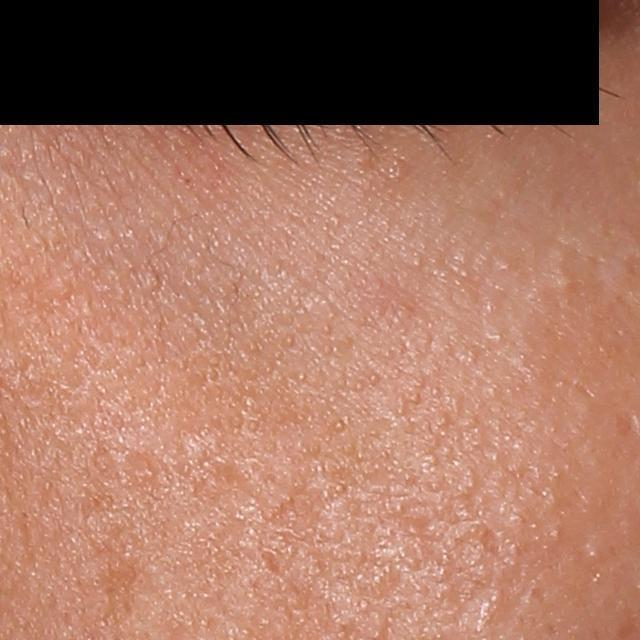atrophic_scar: (91, 561, 146, 630), (260, 549, 288, 581)
comedo: (549, 271, 576, 294), (583, 545, 605, 565)
